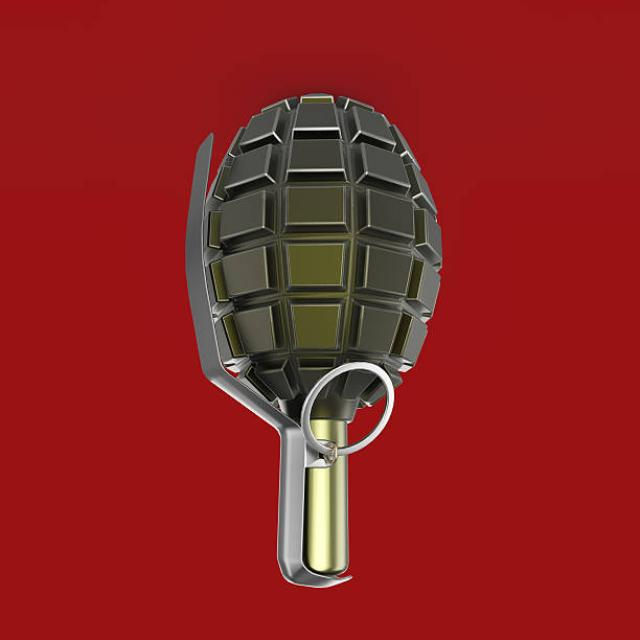grenade: (176, 80, 448, 602)
